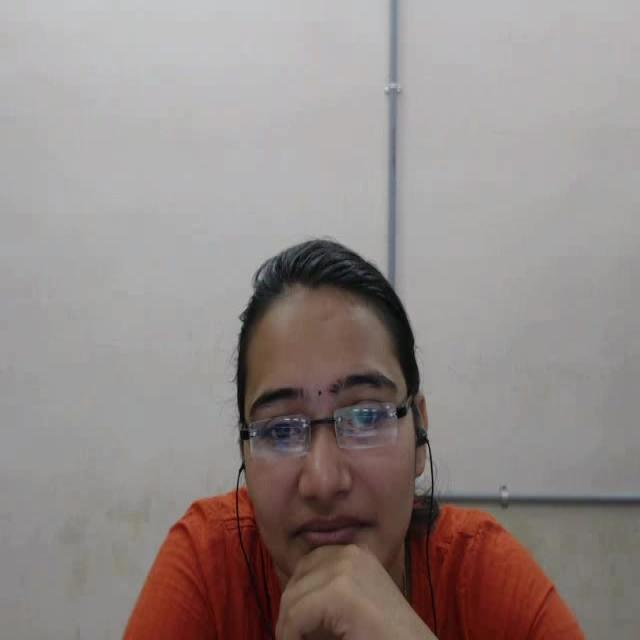Bored: (192, 202, 467, 640)
